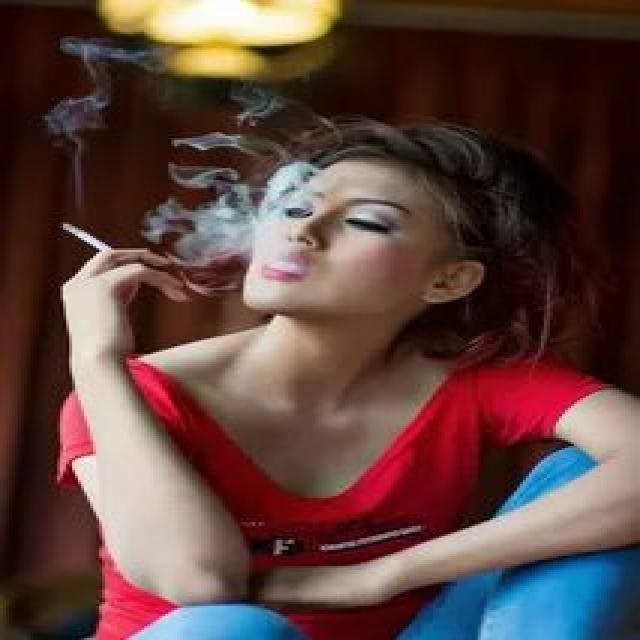cigarette: (51, 218, 126, 258)
